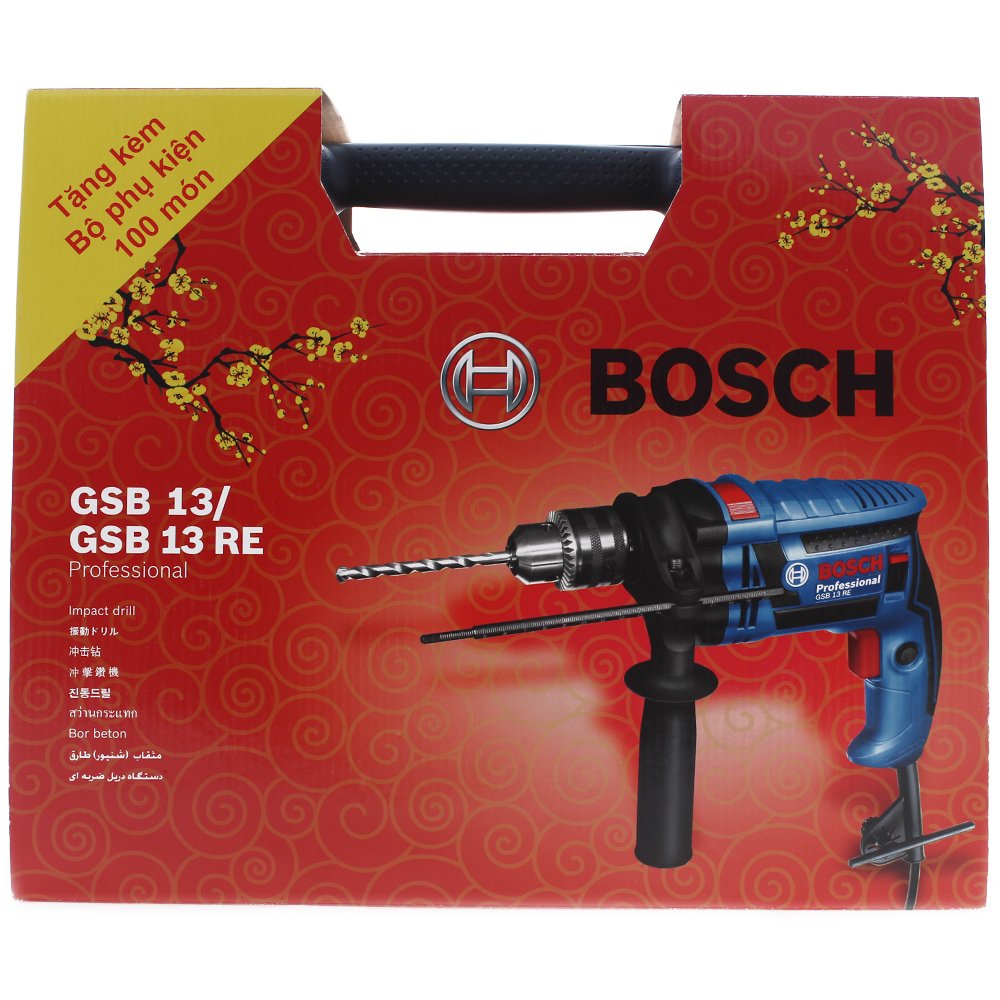Bosch: (578, 327, 906, 426), (815, 548, 889, 585)
